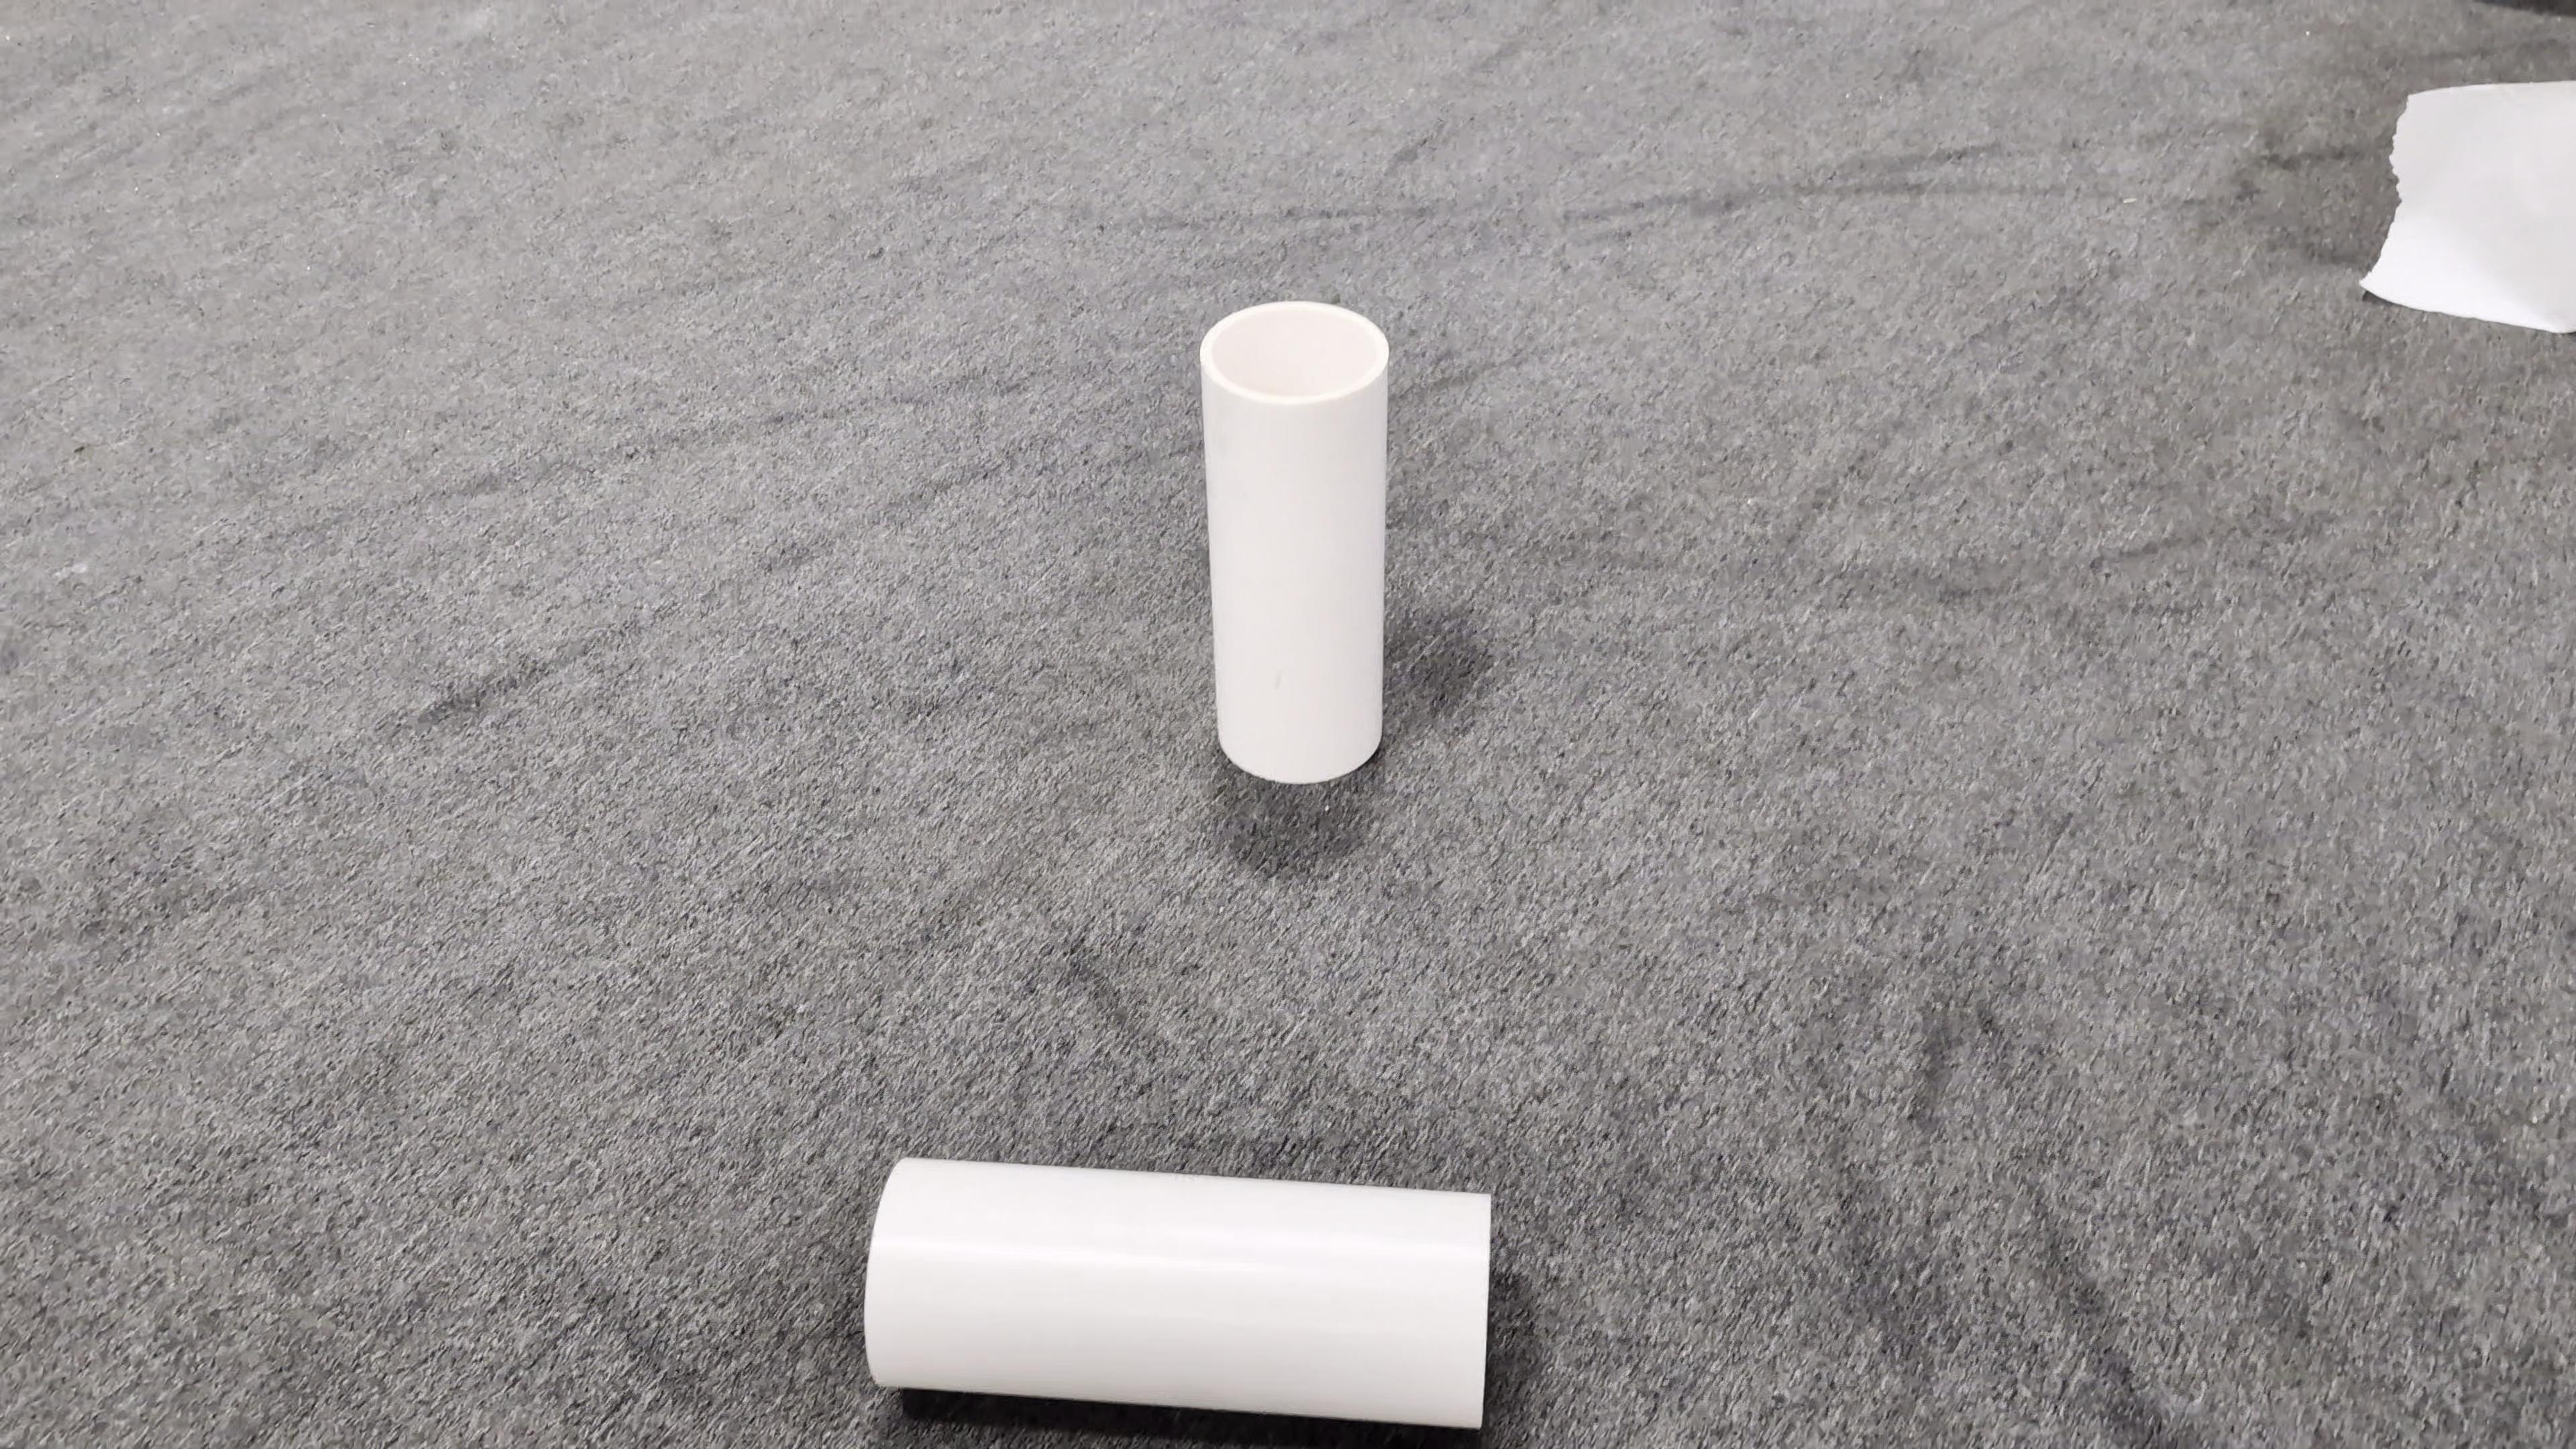coral: (863, 1150, 1495, 1431), (1194, 299, 1396, 782)
